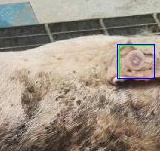text: (119, 45, 154, 78)
